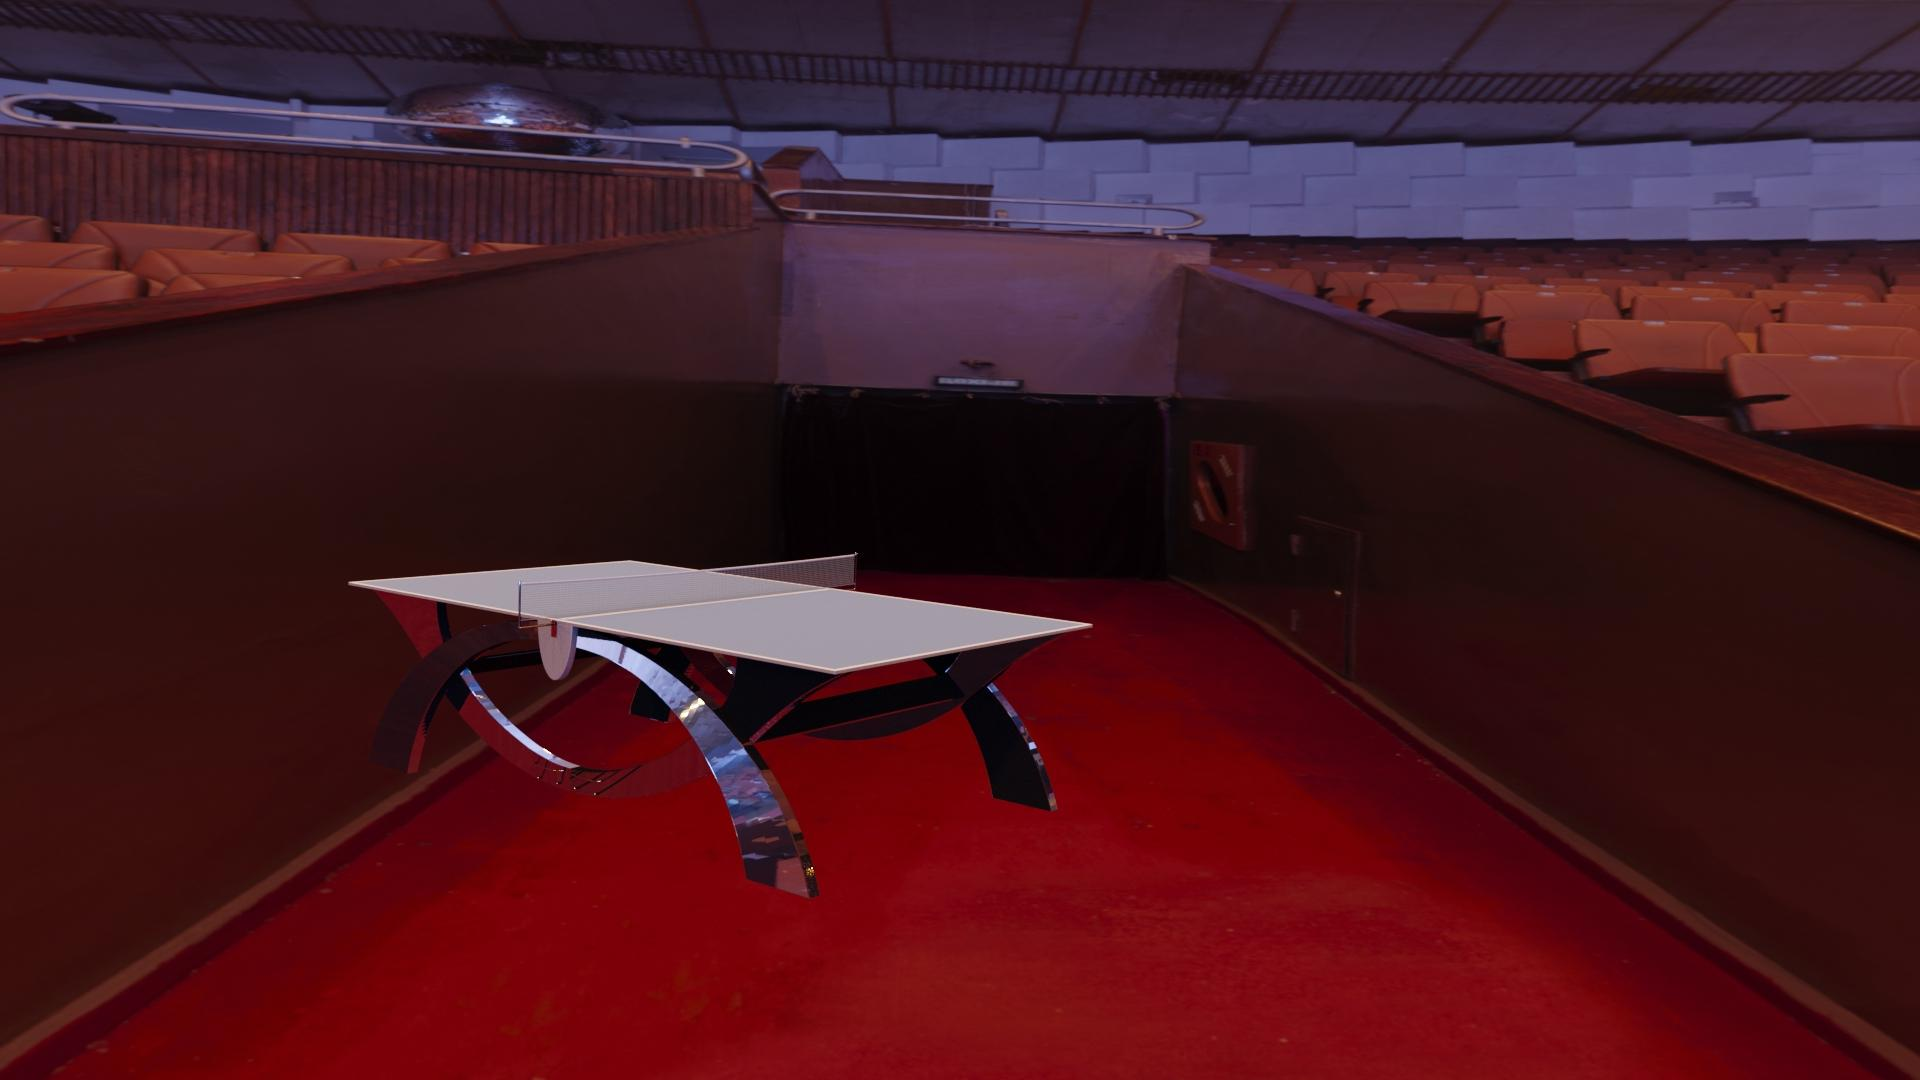table: (356, 562, 1085, 670)
